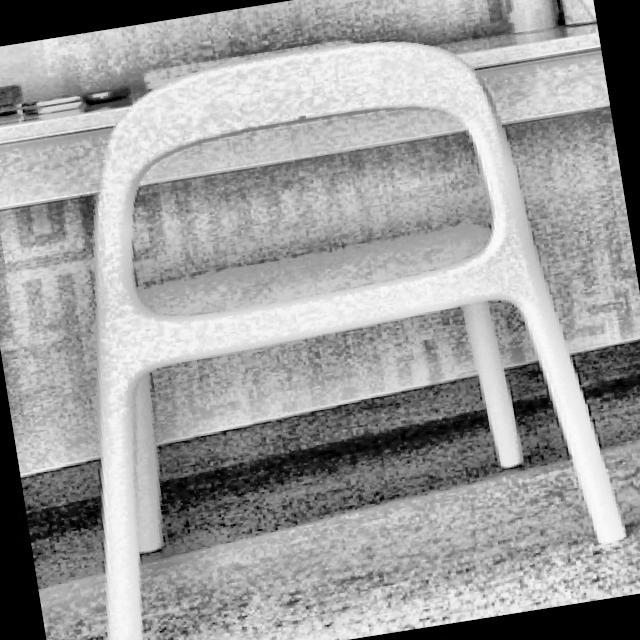chair: (17, 13, 629, 640)
